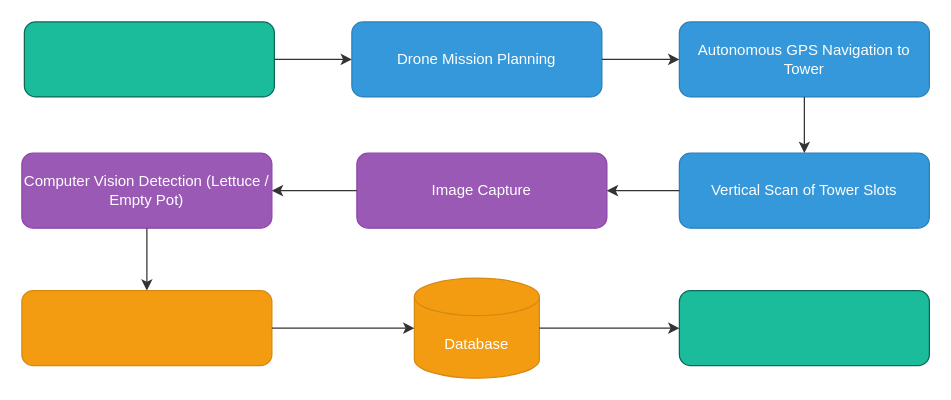
Some shapes in this 951 by 400 pixel diagram are drawn without their labels. The shapes that lost their labels are listed below. From the top down, each one's centre as x and y in pixels, then its label:
At pixel 148 59: "Tower Auto-Registration (QR Code Scan & GPS Sync)".
At pixel 146 327: "Slot Availability Estimate".
At pixel 803 327: "Dashboard Records and History".
